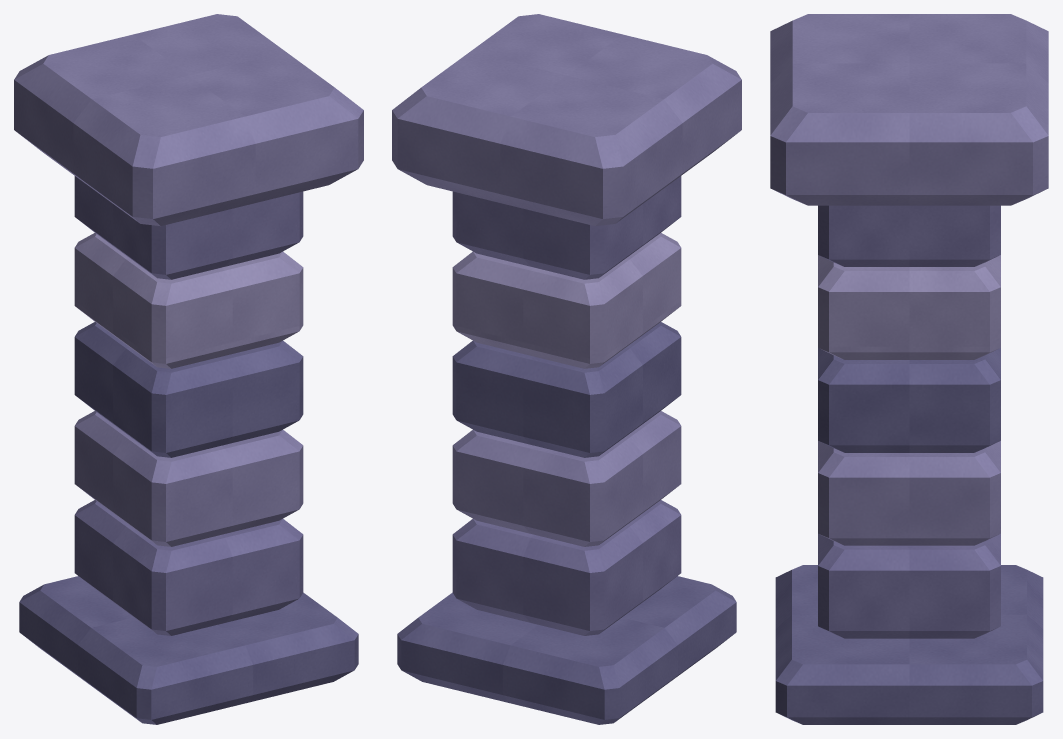
File: Prop_StonePillar.obj
The picture shows the model from 3 angles, left to right: view 1: azimuth 30°, elevation 25°; view 2: azimuth 150°, elevation 25°; view 3: azimuth 270°, elevation 25°; orthographic projection. The views are drawn at different scales.
Parts seen in each view (by area): view 1: Shaft, Capital, Base; view 2: Shaft, Capital, Base; view 3: Shaft, Capital, Base.
Boxes of the visible parts, x1,y1,x2,y2 form: Shaft: (74,176,303,635); Capital: (14,14,363,226); Base: (19,576,358,724); Shaft: (452,176,681,635); Capital: (392,14,741,226); Base: (397,576,736,724); Shaft: (818,205,1000,638); Capital: (770,14,1048,205); Base: (775,565,1043,724).
Size of the model in its own units: 1.25 by 3.03 by 1.25.
Materials: 4 (4 with a texture image).
